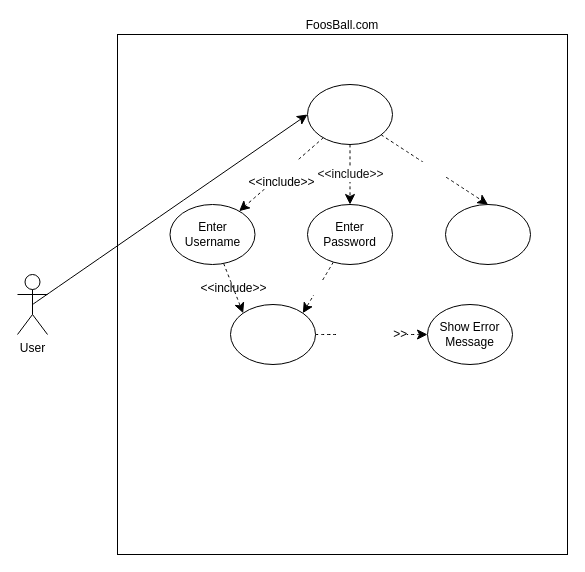
Some shapes in this 585 by 572 pixel diagram are drawn without their labels. The centre of each missing label's shape, as x and y in pixels:
"Click Login" goes at pixel 487 234.
"Log In" goes at pixel 349 114.
"Validate Credentials" goes at pixel 273 334.
